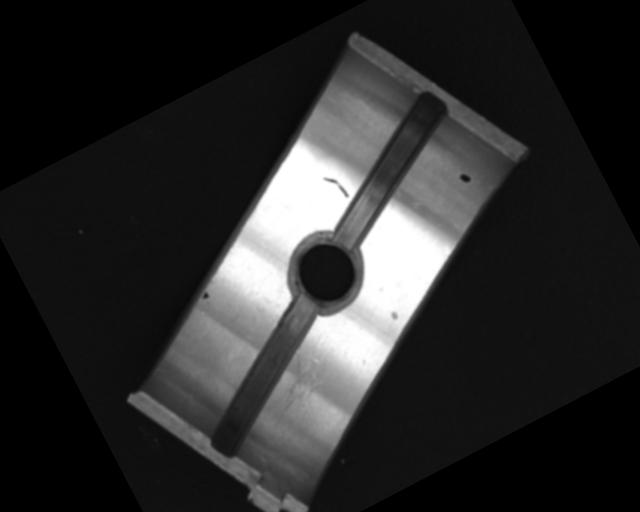blot: (457, 169, 473, 186), (199, 289, 211, 301)
bruise: (387, 307, 400, 322)
gap: (171, 290, 359, 460), (299, 92, 478, 253)
hole: (275, 222, 373, 321)
nick: (323, 170, 351, 204)
scratch: (246, 343, 337, 431)
